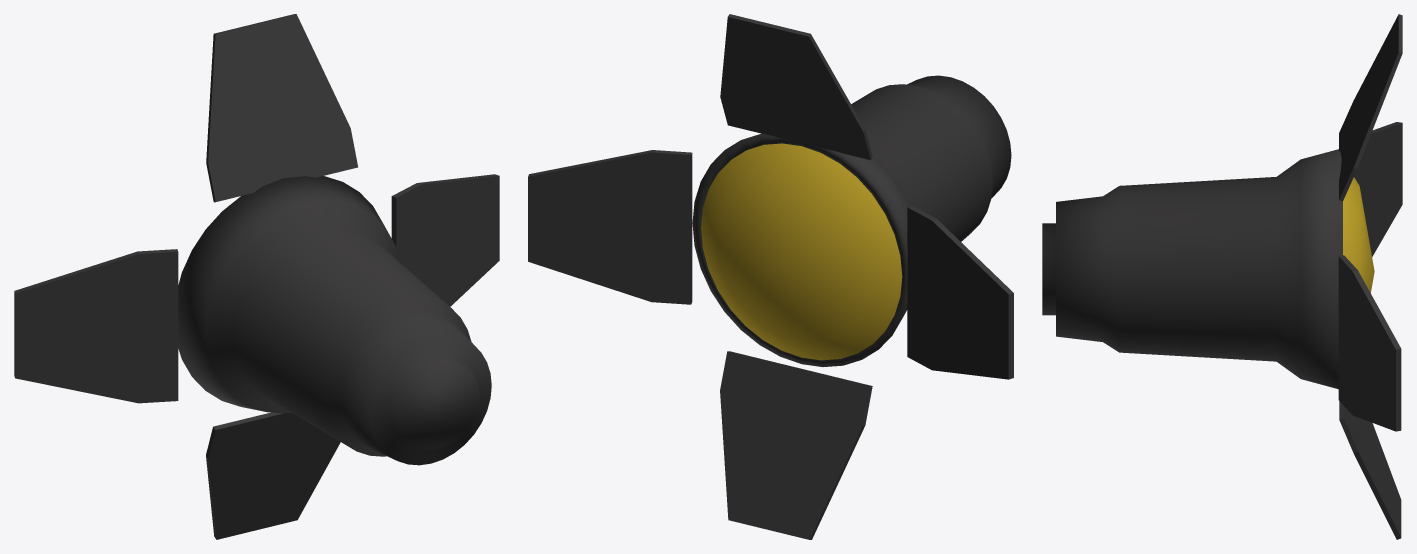
The model's file is headlight.fbx.
3 views of the same model, side by side, from view 1: azimuth 30°, elevation 25°; view 2: azimuth 150°, elevation 25°; view 3: azimuth 270°, elevation 25° (orthographic). The views are drawn at different scales.
Parts seen in each view (by area): view 1: Circle; view 2: Circle; view 3: Circle.
Boxes of the visible parts, x1,y1,x2,y2 form: Circle: [14, 14, 499, 539]; Circle: [528, 14, 1013, 539]; Circle: [1042, 14, 1402, 539].
Size of the model in its own units: 39.41 by 39.33 by 26.32.
